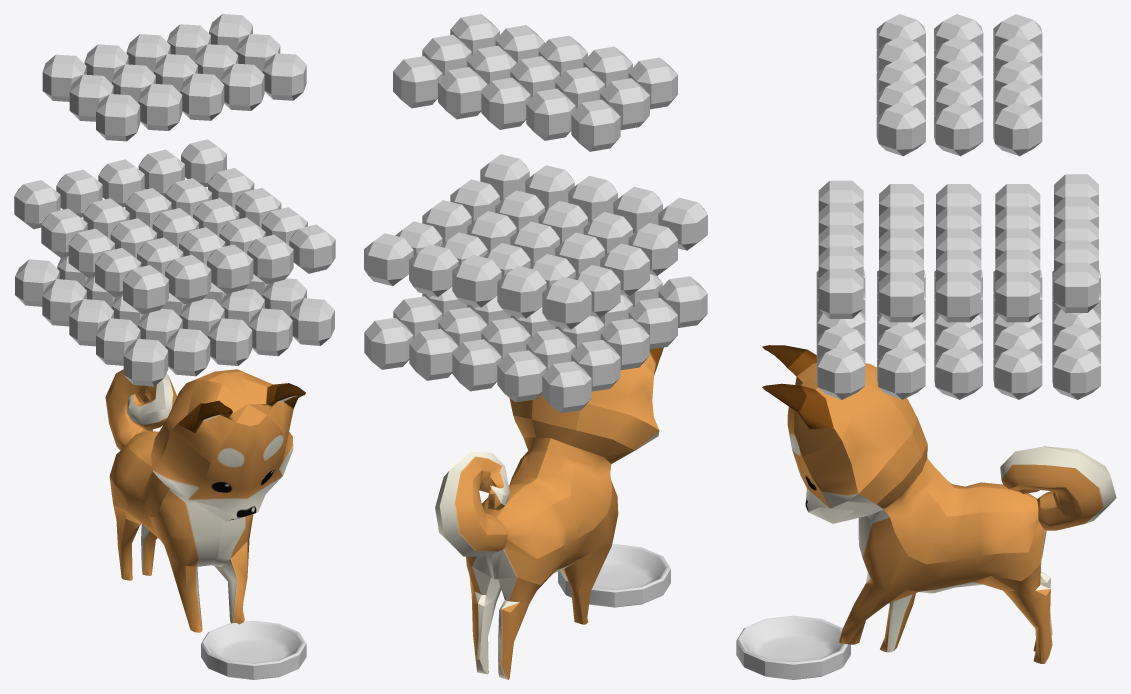
Rendered from emptyBowl_frame31.obj.
3 renders of one model, left to right at view 1: azimuth 30°, elevation 25°; view 2: azimuth 150°, elevation 25°; view 3: azimuth 270°, elevation 25°, orthographic. The views are drawn at different scales.
Visible parts, largest first — view 1: newRigging1:BodzL1, FressnapfLeer:pCylinder1, FressnapfFull:pCube46, FressnapfFull:pCube45, FressnapfFull:pCube36, FressnapfFull:pCube49, FressnapfFull:pCube50, FressnapfFull:pCube57, FressnapfFull:pCube42, FressnapfFull:pCube43, FressnapfFull:pCube48, FressnapfFull:pCube60 (+44 smaller); view 2: newRigging1:BodzL1, FressnapfLeer:pCylinder1, FressnapfFull:pCube51, FressnapfFull:pCube39, FressnapfFull:pCube64, FressnapfFull:pCube54, FressnapfFull:pCube53, FressnapfFull:pCube55, FressnapfFull:pCube37, FressnapfFull:pCube38, FressnapfFull:pCube62, FressnapfFull:pCube61 (+48 smaller); view 3: newRigging1:BodzL1, FressnapfLeer:pCylinder1, FressnapfFull:pCube15, FressnapfFull:pCube31, FressnapfFull:pCube41, FressnapfFull:pCube50, FressnapfFull:pCube36, FressnapfFull:pCube4, FressnapfFull:pCube55, FressnapfFull:pCube10, FressnapfFull:pCube20, FressnapfFull:pCube30 (+42 smaller).
Boxes of the visible parts, x1,y1,x2,y2 form: newRigging1:BodzL1: (105, 369, 305, 632); FressnapfLeer:pCylinder1: (201, 620, 306, 679); FressnapfFull:pCube46: (123, 339, 168, 386); FressnapfFull:pCube45: (96, 94, 140, 141); FressnapfFull:pCube36: (262, 53, 306, 100); FressnapfFull:pCube49: (165, 328, 210, 376); FressnapfFull:pCube50: (290, 298, 334, 345); FressnapfFull:pCube57: (123, 265, 168, 314); FressnapfFull:pCube42: (138, 83, 182, 130); FressnapfFull:pCube43: (180, 73, 224, 120); FressnapfFull:pCube48: (207, 318, 252, 365); FressnapfFull:pCube60: (207, 244, 253, 293); newRigging1:BodzL1: (435, 347, 663, 679); FressnapfLeer:pCylinder1: (558, 544, 670, 607); FressnapfFull:pCube51: (542, 361, 591, 413); FressnapfFull:pCube39: (571, 99, 620, 151); FressnapfFull:pCube64: (542, 276, 591, 329); FressnapfFull:pCube54: (497, 350, 546, 402); FressnapfFull:pCube53: (452, 339, 501, 391); FressnapfFull:pCube55: (364, 318, 413, 369); FressnapfFull:pCube37: (526, 88, 575, 140); FressnapfFull:pCube38: (481, 77, 530, 129); FressnapfFull:pCube62: (452, 254, 501, 307); FressnapfFull:pCube61: (497, 265, 546, 318); newRigging1:BodzL1: (762, 345, 1116, 663); FressnapfLeer:pCylinder1: (736, 615, 850, 679); FressnapfFull:pCube15: (993, 346, 1042, 399); FressnapfFull:pCube31: (934, 102, 983, 156); FressnapfFull:pCube41: (993, 102, 1042, 156); FressnapfFull:pCube50: (816, 346, 865, 399); FressnapfFull:pCube36: (876, 102, 925, 156); FressnapfFull:pCube4: (934, 345, 982, 399); FressnapfFull:pCube55: (1052, 346, 1100, 399); FressnapfFull:pCube10: (877, 345, 925, 399); FressnapfFull:pCube20: (995, 272, 1040, 322); FressnapfFull:pCube30: (936, 272, 981, 322).
Bounding box in the file's own units: 5.73 × 14.49 × 8.45.
Materials: 3 (2 with a texture image).
